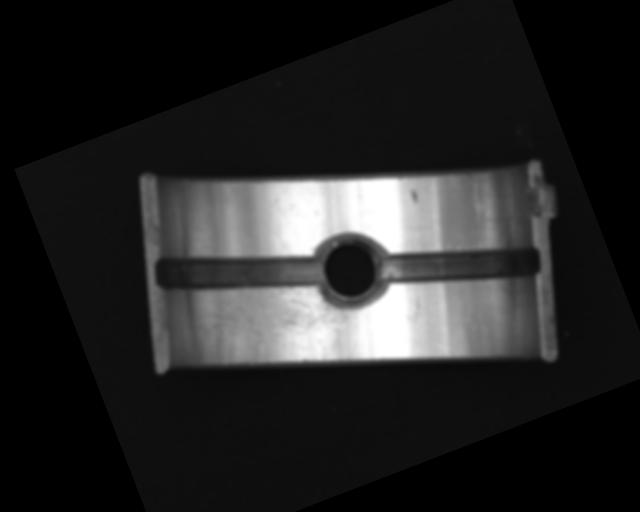bruise: (408, 187, 422, 206)
gap: (151, 205, 324, 335), (377, 207, 545, 326)
hole: (302, 220, 400, 319)
nick: (399, 283, 433, 326), (460, 176, 491, 222)
scratch: (185, 240, 383, 416)
